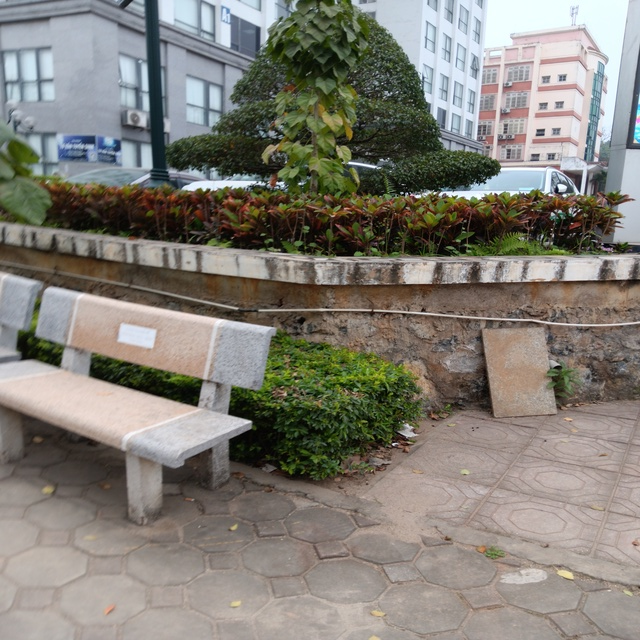gheda: (3, 273, 280, 527), (1, 260, 47, 372)
